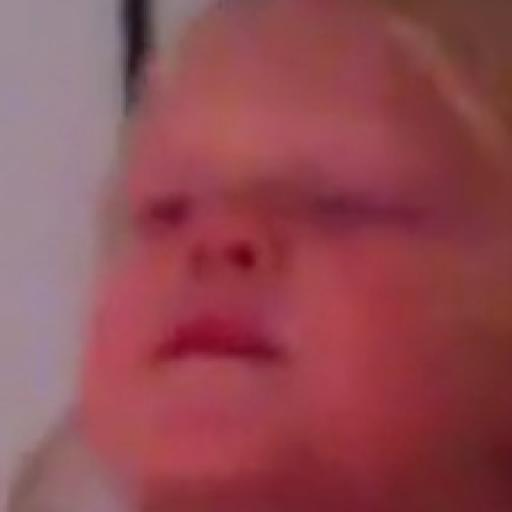Autism: (87, 22, 500, 512)
